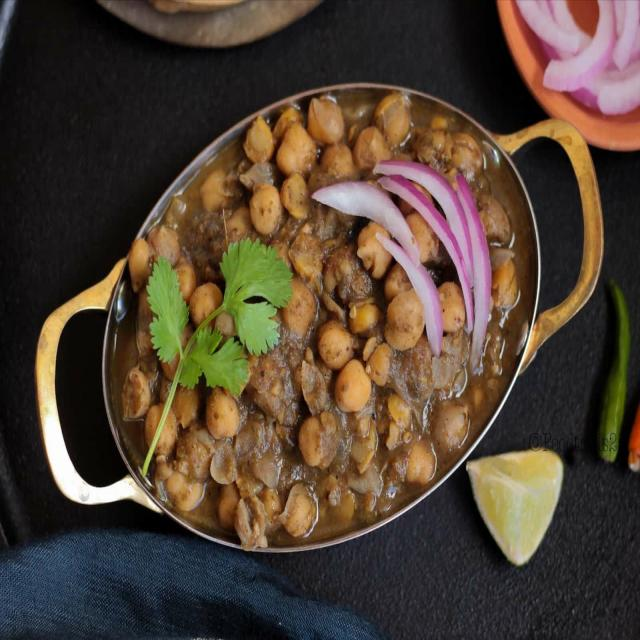Chole: (122, 90, 520, 548)
